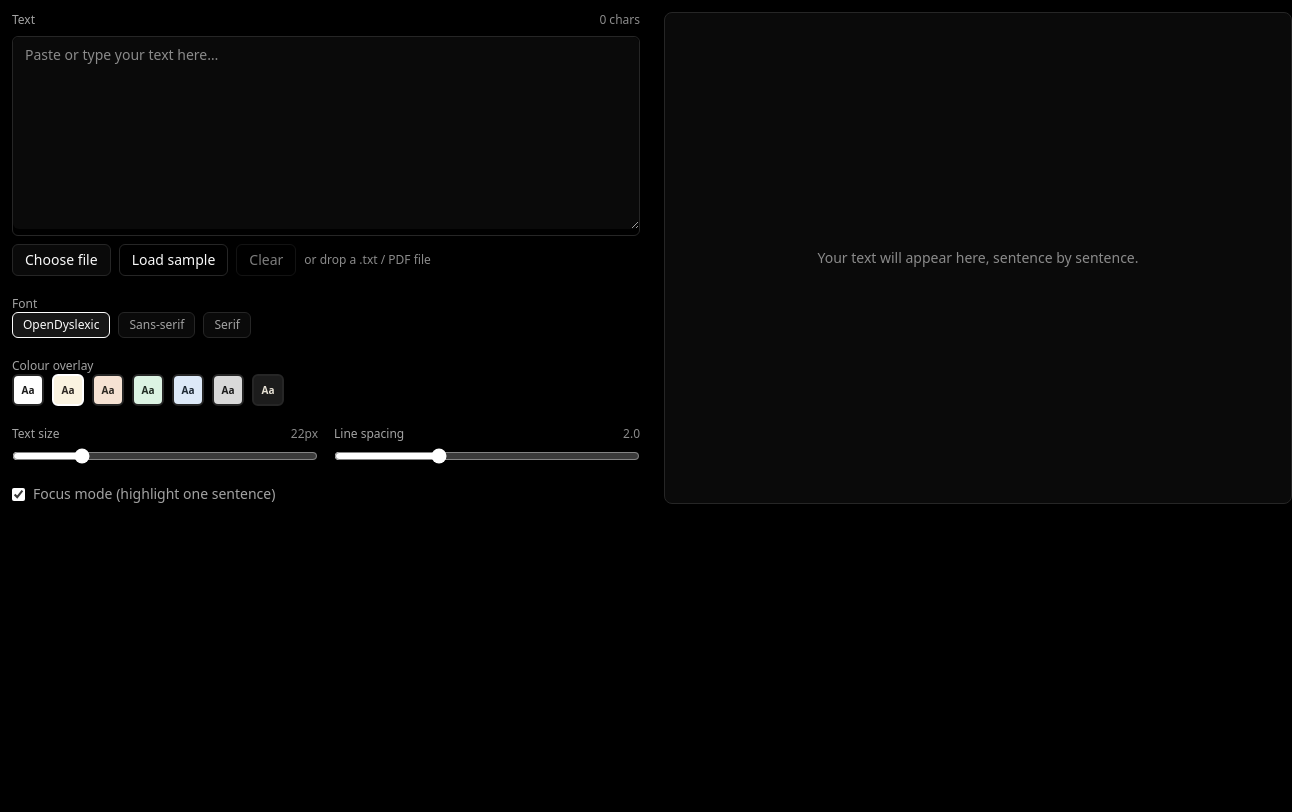
ImmersiveReaderTool › advances sentence by sentence
This screenshot has width=1292, height=812.
Click the button "Load sample" at (173, 260), box x1=119 y1=244 x2=228 y2=276
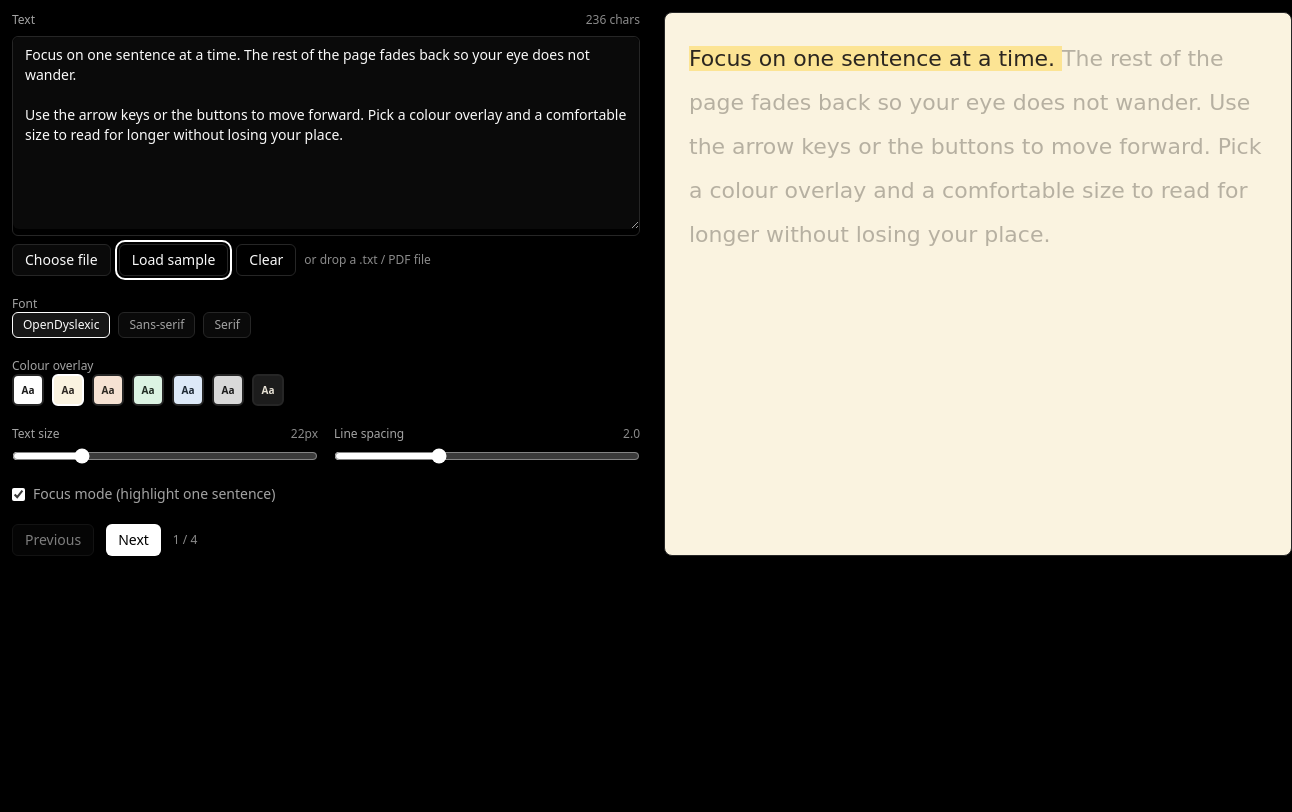
Expected: the text "1 / 4" is shown, x1=173 y1=532 x2=197 y2=548
Click the button "Next" at (133, 540), box x1=106 y1=524 x2=161 y2=556
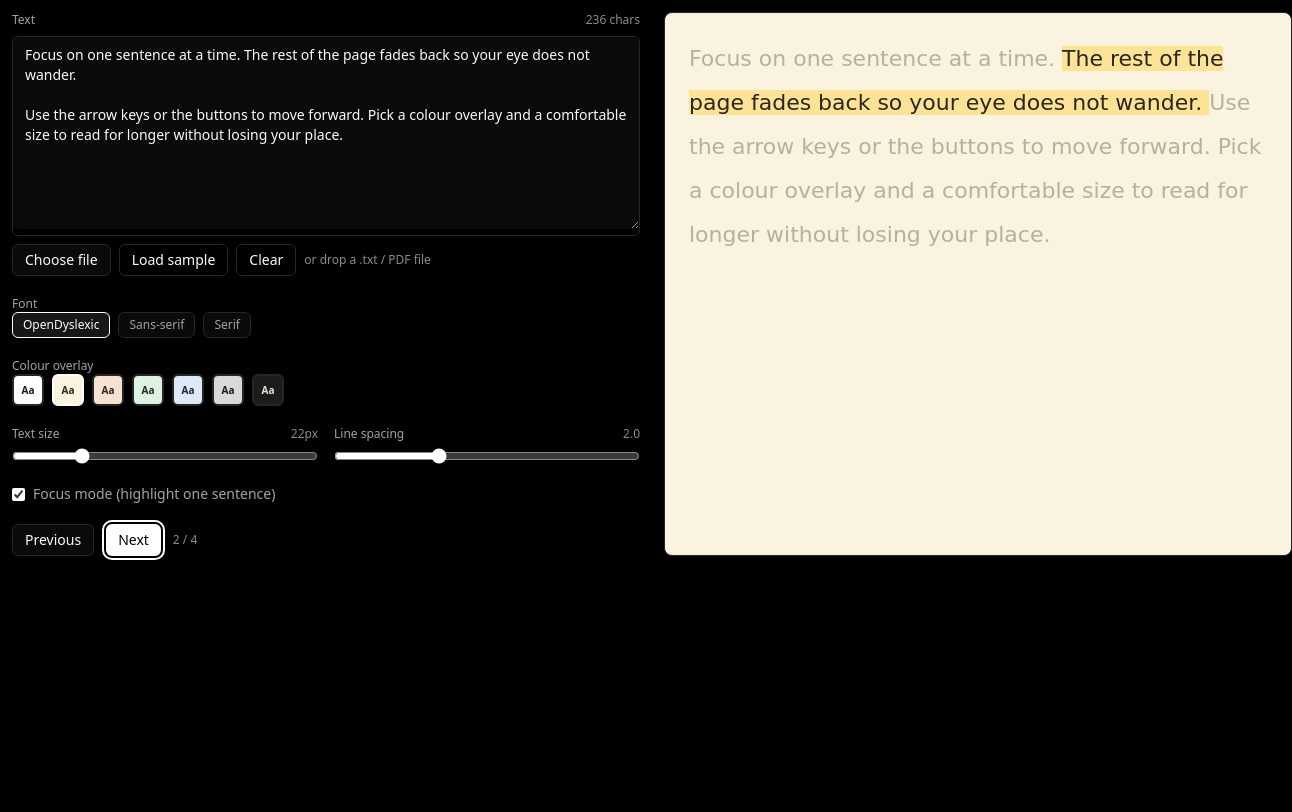
Expected: the text "2 / 4" is shown, x1=173 y1=532 x2=197 y2=548
